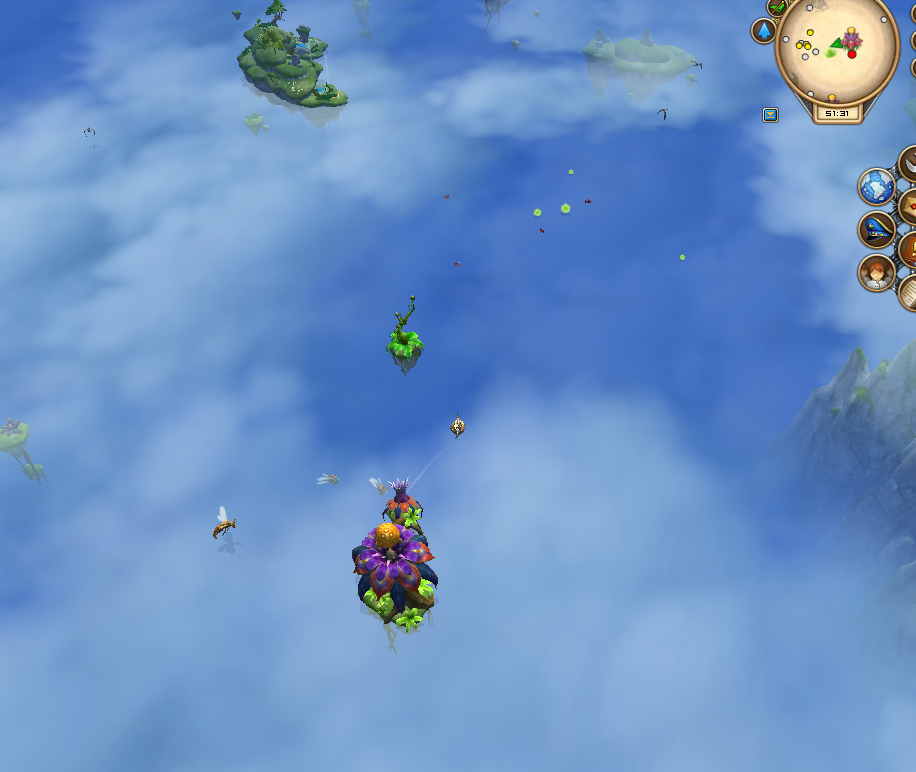dandelion-empty: (384, 293, 427, 374)
fluff: (529, 204, 545, 221), (557, 201, 574, 217), (676, 252, 689, 262), (565, 168, 576, 177)
